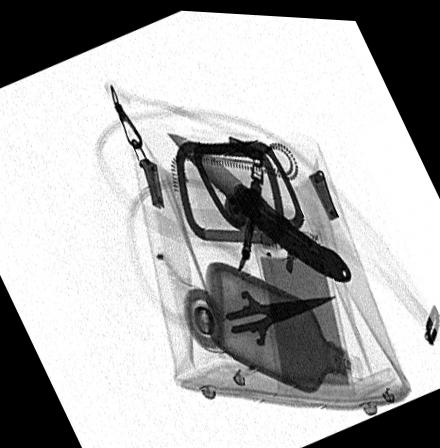Knife: (161, 127, 355, 280)
Powerbank: (248, 224, 357, 395)
Scissors: (204, 264, 337, 373)
